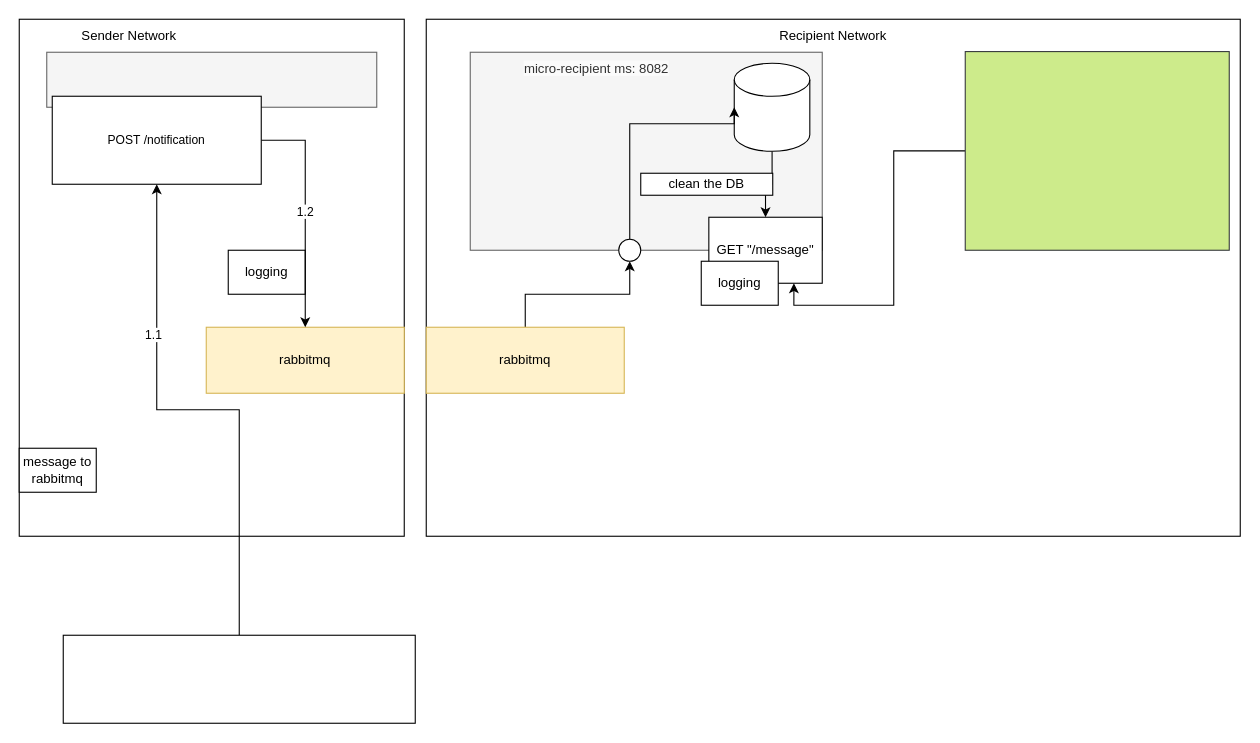
This 1260x743 diagram has some shape labels left out. Each missing label, with the box of its shape:
in-memory db: (733, 62, 810, 151)
micro-collector ms: 8083: (964, 50, 1229, 250)
micro-sender ms: 8081: (46, 51, 377, 107)
{ "user": "Name LastName", "message": "String" }: (62, 634, 415, 723)
